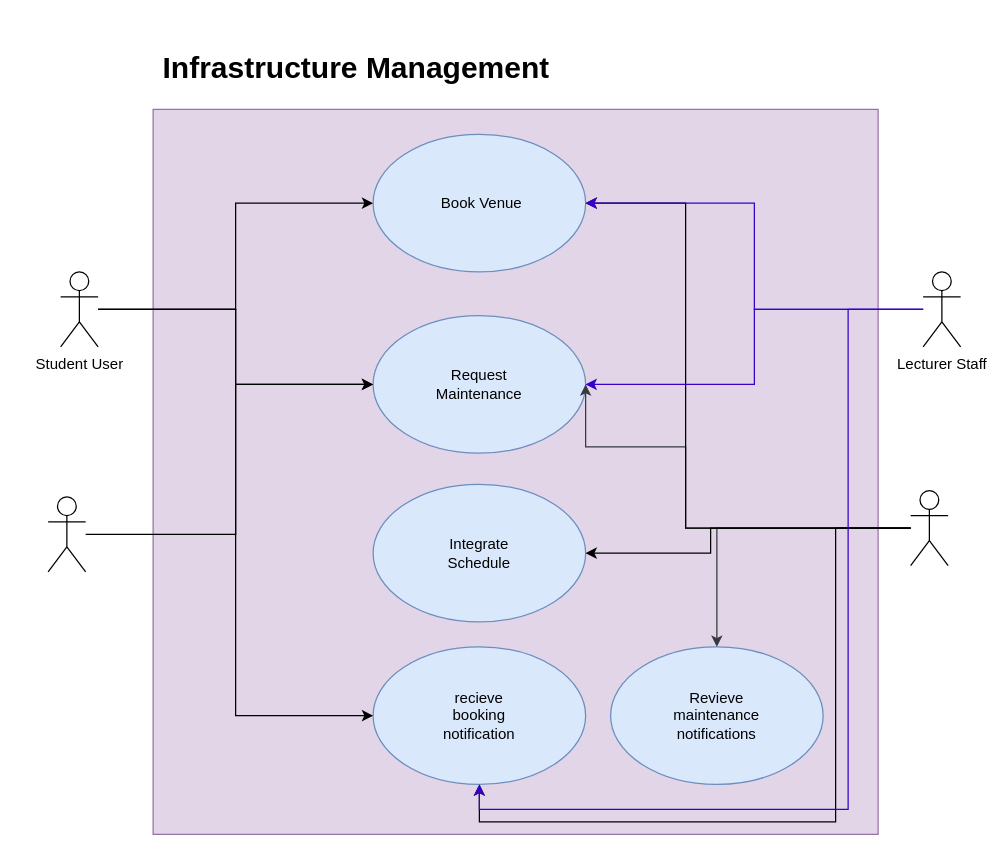
Some shapes in this 1008 by 856 pixel diagram are drawn without their labels. Here are the shapes that lost their labels. From the top down, the box of each, then its label:
(47, 496, 86, 572): Student Tutor
(909, 489, 948, 566): Staff
